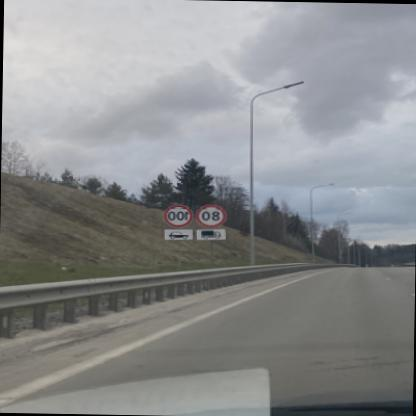speedlimit: (198, 202, 228, 226), (165, 202, 194, 224)
